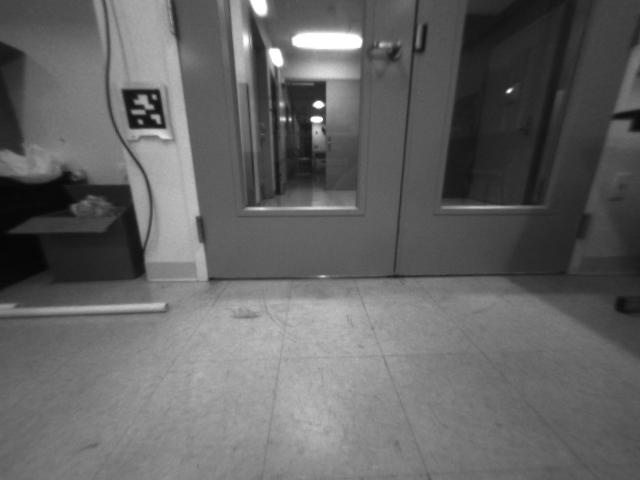door_handle: (356, 35, 407, 62)
